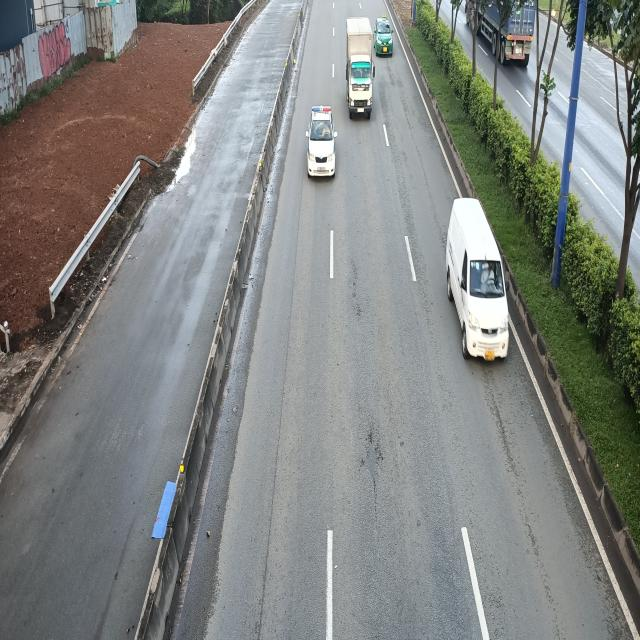car: (308, 106, 339, 180), (375, 17, 395, 56)
truck: (346, 18, 376, 119)
van: (448, 198, 512, 363)
